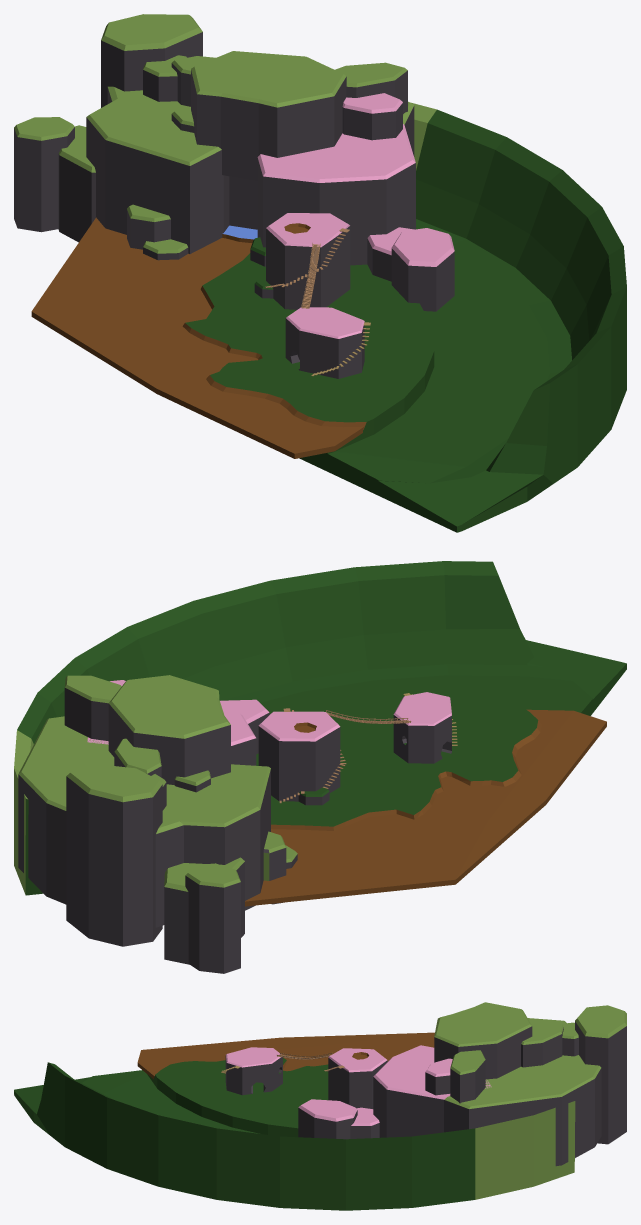
The model's file is demoTerrain.glb.
3 renders of one model, top to bottom at view 1: azimuth 30°, elevation 25°; view 2: azimuth 150°, elevation 25°; view 3: azimuth 270°, elevation 25°, orthographic. The views are drawn at different scales.
Visible parts, largest first — view 1: horizon hills, Cube.059, ground, WaterfallCliff.008, WaterfallCliff.013, WaterfallCliff.015, WoodlandPlatform3, WaterfallCliff.006, WaterfallCliff.004, WoodlandPlatform4, WaterfallCliff.019, WaterfallCliff.003 (+8 smaller); view 2: horizon hills, Cube.059, WaterfallCliff.008, ground, WaterfallCliff.006, WaterfallCliff.013, WoodlandPlatform3, WaterfallCliff.004, WoodlandPlatform4, WaterfallCliff.003, WaterfallCliff.009, WaterfallCliff.015 (+3 smaller); view 3: horizon hills, WaterfallCliff.008, ground, Cube.059, WaterfallCliff.015, WaterfallCliff.013, WaterfallCliff.006, WoodlandPlatform3, WoodlandPlatform4, WaterfallCliff.019, WaterfallCliff.009, WaterfallCliff.011 (+3 smaller).
Boxes of the visible parts, x1=… form: horizon hills: x1=299, y1=102, x2=626, y2=532; Cube.059: x1=31, y1=217, x2=363, y2=458; ground: x1=182, y1=225, x2=434, y2=454; WaterfallCliff.008: x1=86, y1=86, x2=414, y2=253; WaterfallCliff.013: x1=191, y1=51, x2=346, y2=181; WaterfallCliff.015: x1=257, y1=124, x2=415, y2=265; WoodlandPlatform3: x1=266, y1=213, x2=350, y2=309; WaterfallCliff.006: x1=101, y1=14, x2=202, y2=107; WaterfallCliff.004: x1=14, y1=117, x2=74, y2=232; WoodlandPlatform4: x1=285, y1=307, x2=364, y2=378; WaterfallCliff.019: x1=391, y1=228, x2=454, y2=311; WaterfallCliff.003: x1=58, y1=125, x2=95, y2=242; horizon hills: x1=14, y1=561, x2=626, y2=895; Cube.059: x1=245, y1=709, x2=606, y2=906; WaterfallCliff.008: x1=18, y1=716, x2=270, y2=927; ground: x1=256, y1=703, x2=541, y2=830; WaterfallCliff.006: x1=66, y1=763, x2=162, y2=946; WaterfallCliff.013: x1=108, y1=675, x2=230, y2=784; WoodlandPlatform3: x1=258, y1=711, x2=340, y2=801; WaterfallCliff.004: x1=185, y1=863, x2=240, y2=973; WoodlandPlatform4: x1=393, y1=692, x2=451, y2=763; WaterfallCliff.003: x1=164, y1=857, x2=244, y2=964; WaterfallCliff.009: x1=64, y1=675, x2=121, y2=741; WaterfallCliff.015: x1=87, y1=703, x2=256, y2=765; horizon hills: x1=14, y1=1062, x2=575, y2=1210; WaterfallCliff.008: x1=444, y1=1018, x2=601, y2=1166; ground: x1=147, y1=1058, x2=328, y2=1137; Cube.059: x1=137, y1=1032, x2=434, y2=1079; WaterfallCliff.015: x1=373, y1=1045, x2=491, y2=1137; WaterfallCliff.013: x1=434, y1=1002, x2=532, y2=1079; WaterfallCliff.006: x1=575, y1=1005, x2=626, y2=1144; WoodlandPlatform3: x1=328, y1=1048, x2=387, y2=1108; WoodlandPlatform4: x1=225, y1=1047, x2=282, y2=1095; WaterfallCliff.019: x1=298, y1=1099, x2=357, y2=1139; WaterfallCliff.009: x1=450, y1=1050, x2=485, y2=1103; WaterfallCliff.011: x1=521, y1=1023, x2=563, y2=1067.
Size of what is drawn, in the model's own units: 183 by 66.98 by 300.
